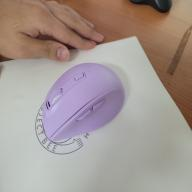mouse: (35, 56, 131, 140)
